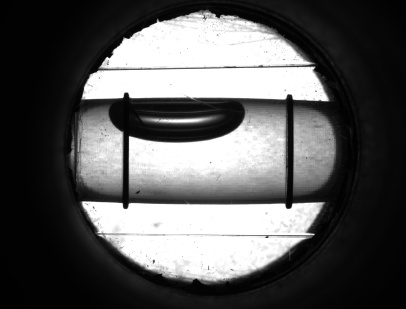line: (280, 113, 300, 190), (119, 143, 134, 189)
